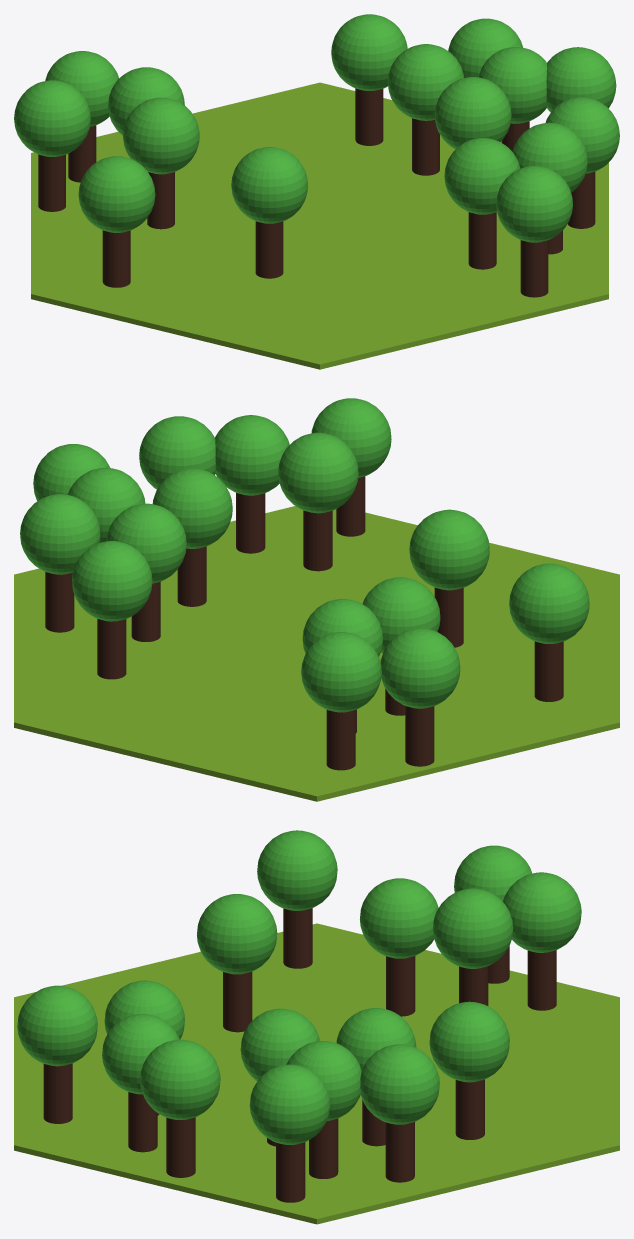
Rendered from Tile Park.glb.
3 views of the same model, one above another, from view 1: azimuth 30°, elevation 25°; view 2: azimuth 150°, elevation 25°; view 3: azimuth 270°, elevation 25° (orthographic). The views are drawn at different scales.
Parts seen in each view (by area): view 1: Tile Park, Cylinder.008, Cylinder.013, Cylinder.014, Cylinder.012, Cylinder.009, Cylinder.007, Cylinder.002, Cylinder.005, Cylinder.016, Cylinder.003, Cylinder.004 (+5 smaller); view 2: Tile Park, Cylinder.002, Cylinder.013, Cylinder.011, Cylinder.007, Cylinder.012, Cylinder.006, Cylinder.008, Cylinder.001, Cylinder.003, Cylinder.005, Cylinder.014 (+5 smaller); view 3: Tile Park, Cylinder.013, Cylinder.015, Cylinder.016, Cylinder.014, Cylinder.007, Cylinder.006, Cylinder.008, Cylinder.009, Cylinder.011, Cylinder.010, Cylinder.001 (+5 smaller).
Part boxes in pixels (bbox=[...]): Tile Park: bbox=[31, 82, 608, 369]; Cylinder.008: bbox=[231, 147, 307, 278]; Cylinder.013: bbox=[78, 156, 155, 287]; Cylinder.014: bbox=[496, 166, 572, 297]; Cylinder.012: bbox=[14, 80, 90, 211]; Cylinder.009: bbox=[123, 97, 199, 229]; Cylinder.007: bbox=[331, 14, 407, 145]; Cylinder.002: bbox=[444, 138, 520, 269]; Cylinder.005: bbox=[387, 44, 463, 175]; Cylinder.016: bbox=[545, 97, 619, 228]; Cylinder.003: bbox=[434, 77, 511, 149]; Cylinder.004: bbox=[478, 47, 546, 151]; Tile Park: bbox=[14, 506, 619, 801]; Cylinder.002: bbox=[278, 432, 358, 571]; Cylinder.013: bbox=[509, 563, 589, 701]; Cylinder.011: bbox=[301, 632, 381, 770]; Cylinder.007: bbox=[72, 541, 152, 679]; Cylinder.012: bbox=[380, 628, 460, 766]; Cylinder.006: bbox=[20, 494, 100, 632]; Cylinder.008: bbox=[409, 509, 489, 647]; Cylinder.001: bbox=[215, 415, 289, 553]; Cylinder.003: bbox=[152, 468, 232, 606]; Cylinder.005: bbox=[106, 503, 186, 641]; Cylinder.014: bbox=[311, 398, 391, 536]; Tile Park: bbox=[14, 923, 619, 1224]; Cylinder.013: bbox=[257, 830, 337, 968]; Cylinder.015: bbox=[249, 1064, 330, 1202]; Cylinder.016: bbox=[140, 1039, 220, 1177]; Cylinder.014: bbox=[17, 985, 97, 1123]; Cylinder.007: bbox=[429, 1001, 509, 1139]; Cylinder.006: bbox=[360, 1044, 439, 1182]; Cylinder.008: bbox=[197, 894, 277, 1032]; Cylinder.009: bbox=[360, 878, 438, 1016]; Cylinder.011: bbox=[503, 872, 581, 1010]; Cylinder.010: bbox=[432, 888, 513, 1005]; Cylinder.001: bbox=[102, 1014, 179, 1152].
Bounding box in the file's own units: 20 × 4.22 × 17.32.
